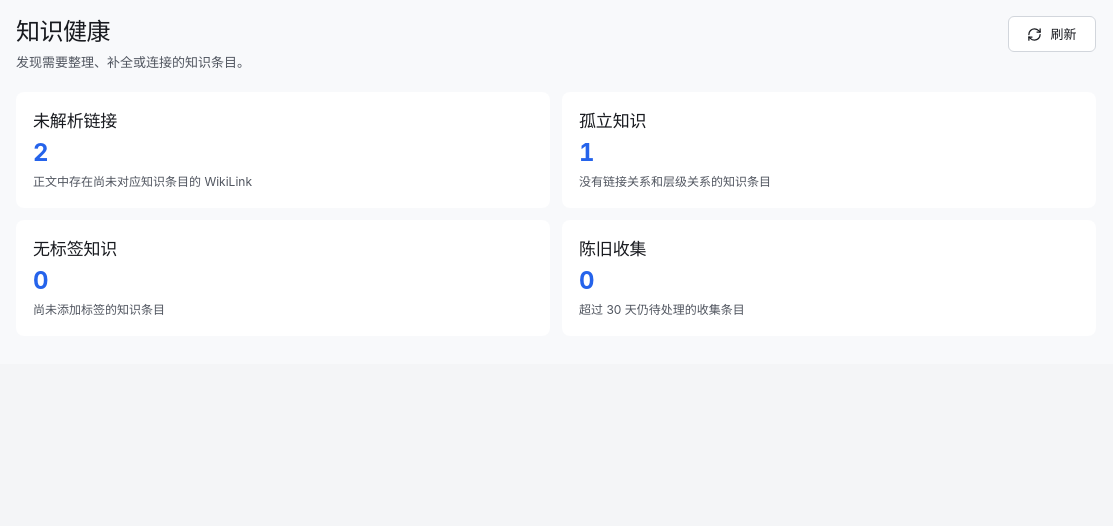
KnowledgeHealthView › loads only the summary until a category is selected
Click the button "未解析链接 2 正文中存在尚未对应知识条目的 WikiLink".
click(75, 121)  # box [16, 92, 550, 208]
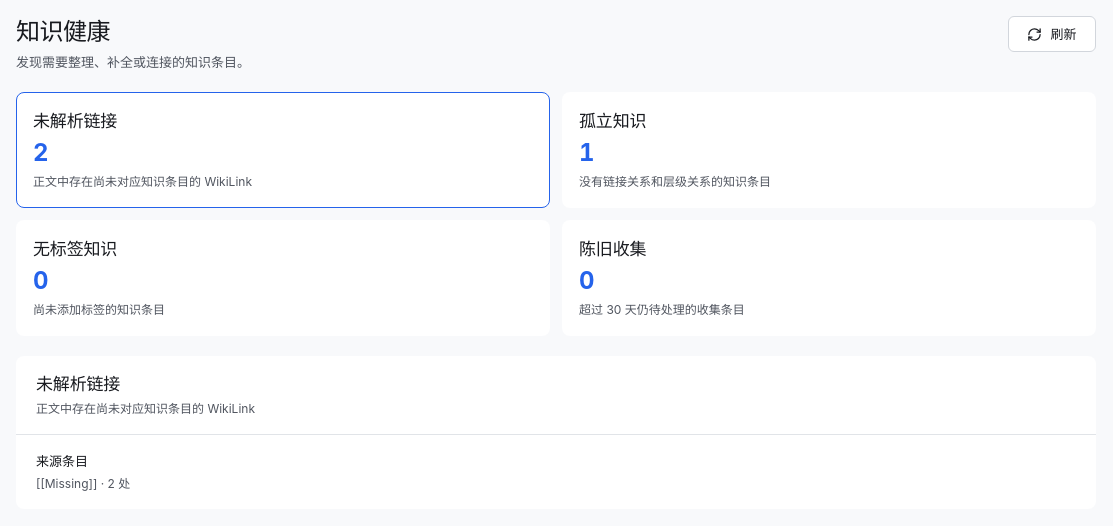
Check: the text "[ [Missing]] · 2 处" is shown, box [36, 476, 130, 491]
